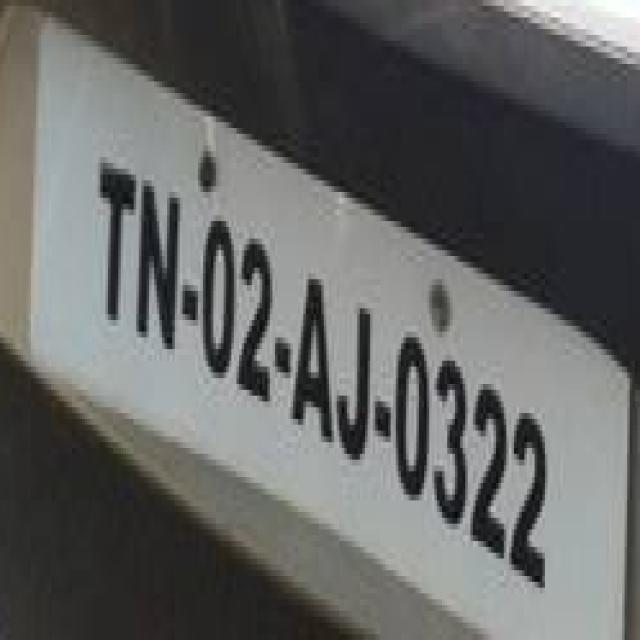plate: (16, 29, 591, 588)
